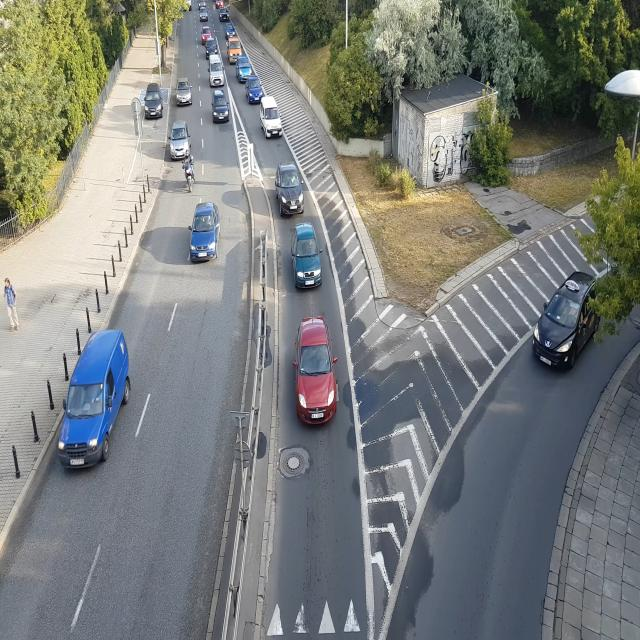car: (61, 321, 136, 479), (534, 270, 607, 368), (292, 310, 339, 431), (188, 201, 220, 262), (292, 225, 322, 288), (275, 164, 305, 218), (169, 122, 192, 162), (260, 102, 282, 140), (142, 85, 165, 121), (213, 91, 232, 123), (173, 80, 191, 106), (236, 56, 252, 80), (247, 83, 265, 104), (227, 39, 242, 63), (210, 66, 226, 85), (200, 24, 214, 45), (204, 42, 218, 57), (223, 25, 236, 38), (198, 10, 208, 22), (214, 0, 226, 10), (220, 11, 231, 21), (196, 0, 207, 9)
motorcycle: (183, 145, 195, 196)
